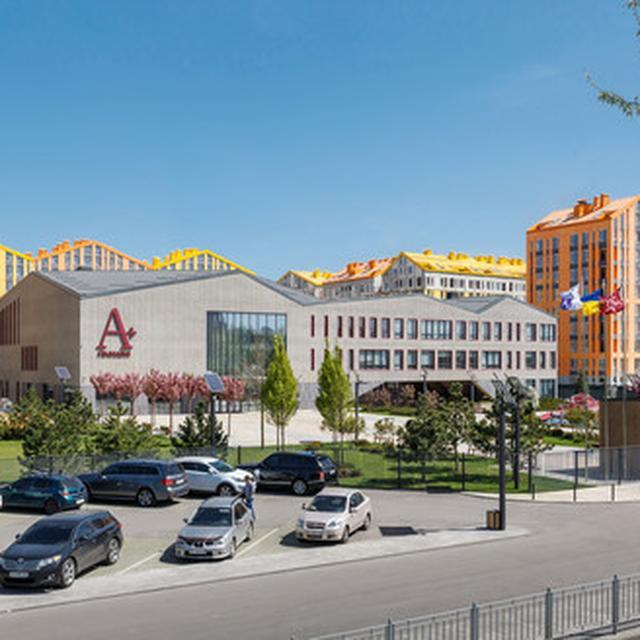building: (0, 270, 557, 403), (521, 192, 640, 394), (277, 248, 525, 301), (1, 238, 261, 282)
